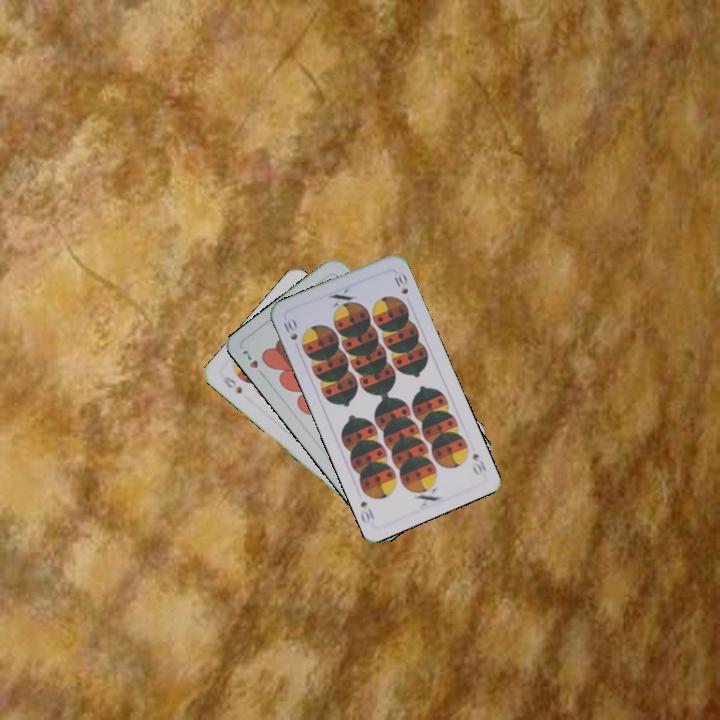H7: (238, 346, 267, 380)
S10: (279, 314, 300, 343), (468, 449, 489, 477)
S8: (219, 372, 245, 396)
